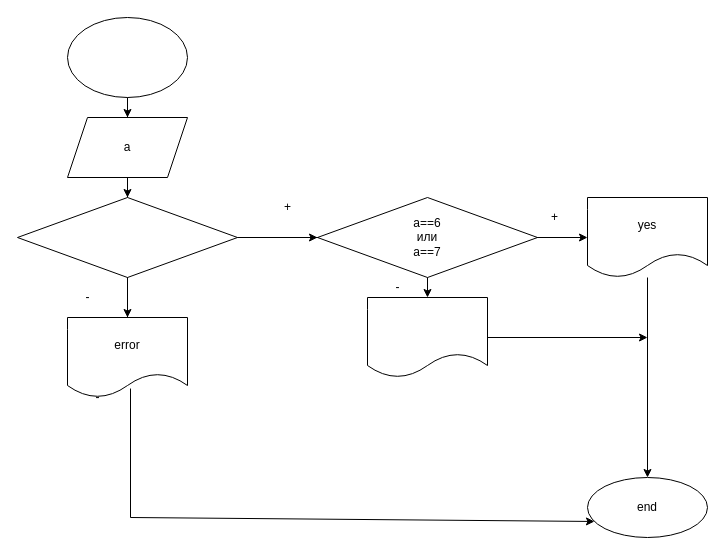
This 725x555 diagram has some shape labels left out. Each missing label, with the centre of its shape:
a>=1 a<=7: (x=127, y=237)
no: (x=427, y=337)
start: (x=127, y=57)
